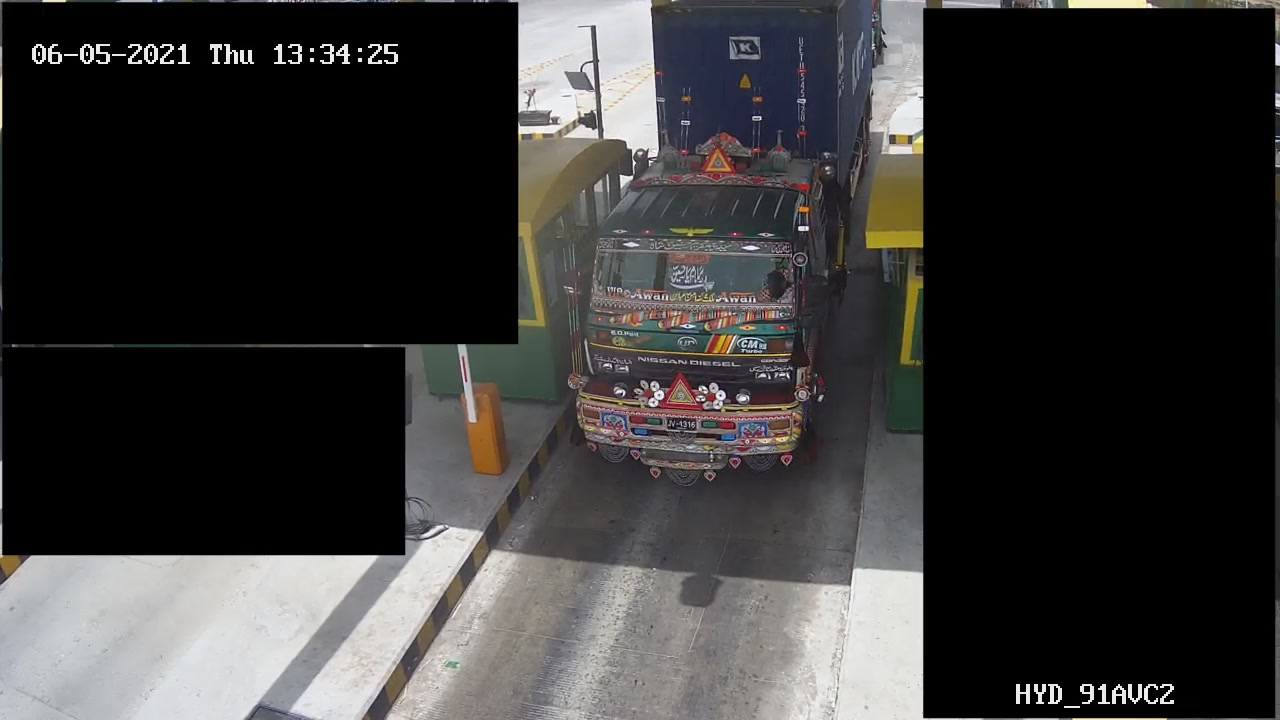F6: (567, 1, 878, 457)
